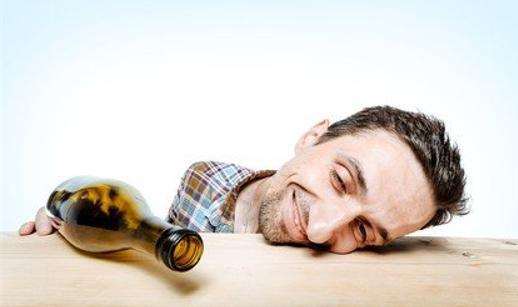Drunk: (266, 145, 422, 253)
